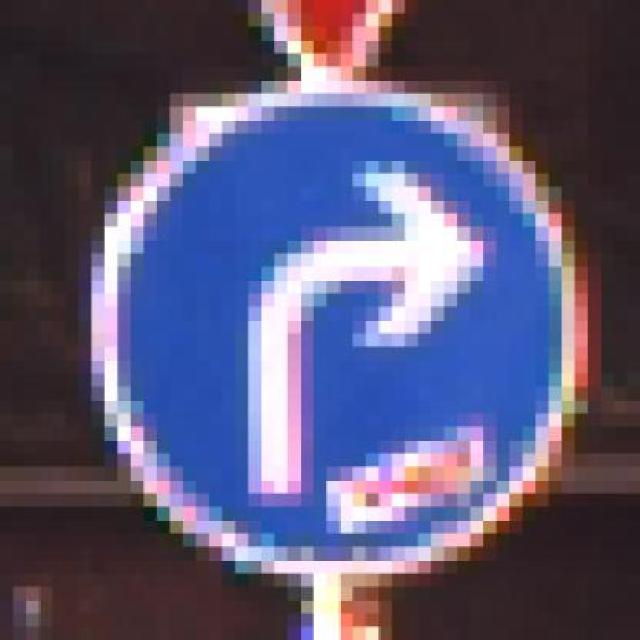Turn right ahead: (65, 53, 601, 587)
